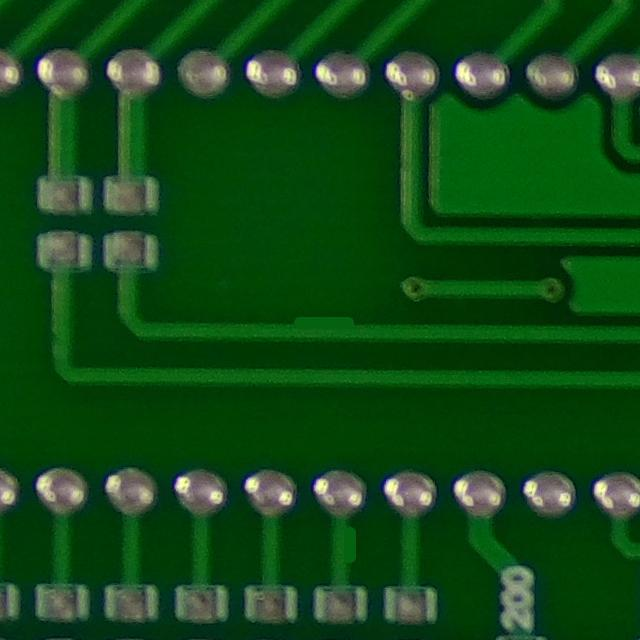spur: (279, 297, 362, 343)
